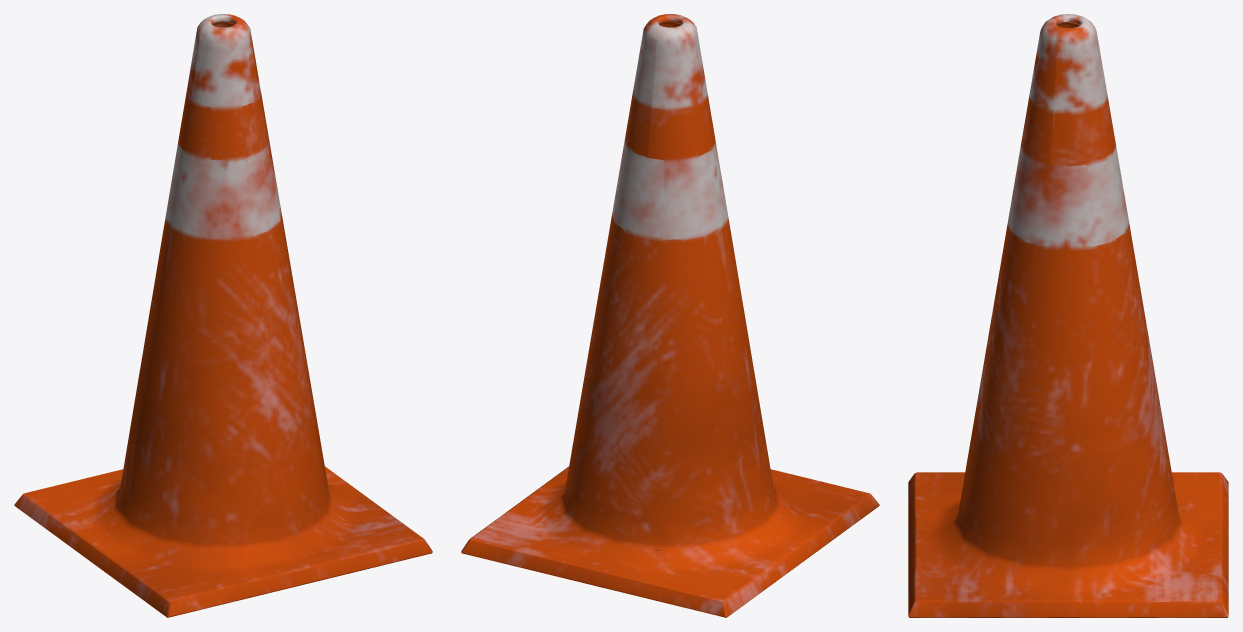
3 renders of one model, left to right at view 1: azimuth 30°, elevation 25°; view 2: azimuth 150°, elevation 25°; view 3: azimuth 270°, elevation 25°, orthographic. The views are drawn at different scales.
Visible parts, largest first — view 1: mesh; view 2: mesh; view 3: mesh.
Boxes of the visible parts, x1,y1,x2,y2 form: mesh: (14,14,432,617); mesh: (461,14,879,617); mesh: (908,14,1228,617).
Bounding box in the file's own units: 0.3843 × 0.7 × 0.3843.
Materials: 1 (1 with a texture image).
